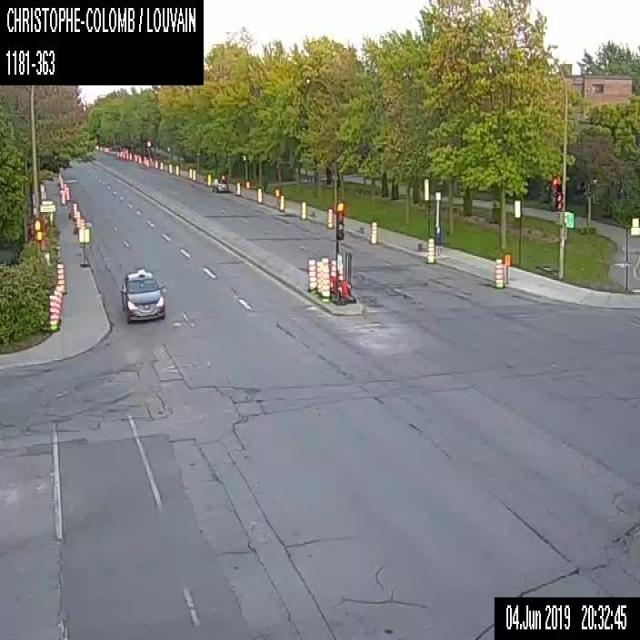construction: (78, 227, 90, 267), (49, 294, 60, 331), (322, 262, 331, 298), (307, 257, 316, 291), (53, 289, 61, 325), (493, 257, 502, 288), (57, 261, 65, 293), (426, 236, 435, 263), (329, 256, 336, 290), (56, 286, 62, 321), (315, 260, 321, 294), (370, 220, 377, 244), (326, 208, 334, 228), (504, 253, 509, 281), (300, 200, 306, 219), (74, 209, 80, 227), (60, 189, 66, 204), (274, 189, 279, 204), (279, 195, 284, 210), (72, 202, 76, 218), (257, 186, 261, 202), (236, 180, 240, 196), (66, 186, 70, 200), (207, 172, 211, 186), (57, 173, 61, 186), (321, 255, 328, 262), (188, 166, 192, 178), (60, 178, 64, 190), (168, 162, 172, 172), (154, 159, 158, 168), (142, 155, 146, 164), (62, 182, 66, 191), (80, 218, 84, 227), (192, 168, 195, 180), (175, 164, 178, 175), (146, 158, 148, 167), (160, 160, 162, 169), (138, 156, 140, 162), (134, 154, 136, 160), (129, 152, 131, 158)
vehicle: (119, 265, 166, 323), (211, 177, 228, 191)
